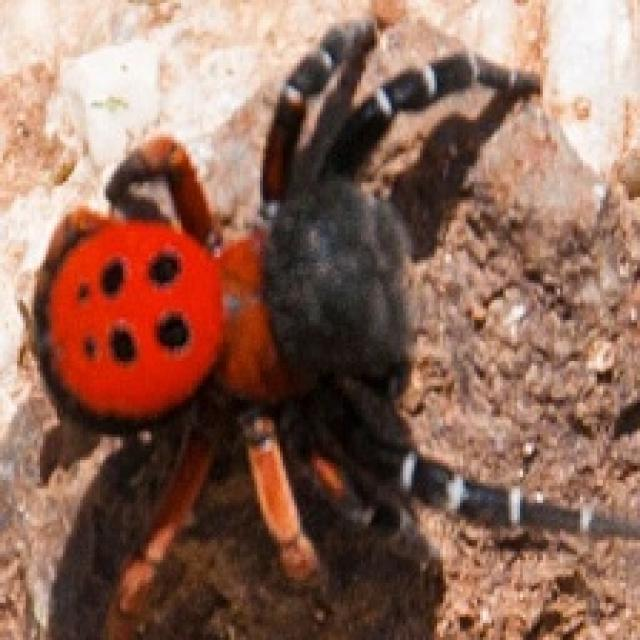Non venomous spider: (63, 22, 598, 615)
